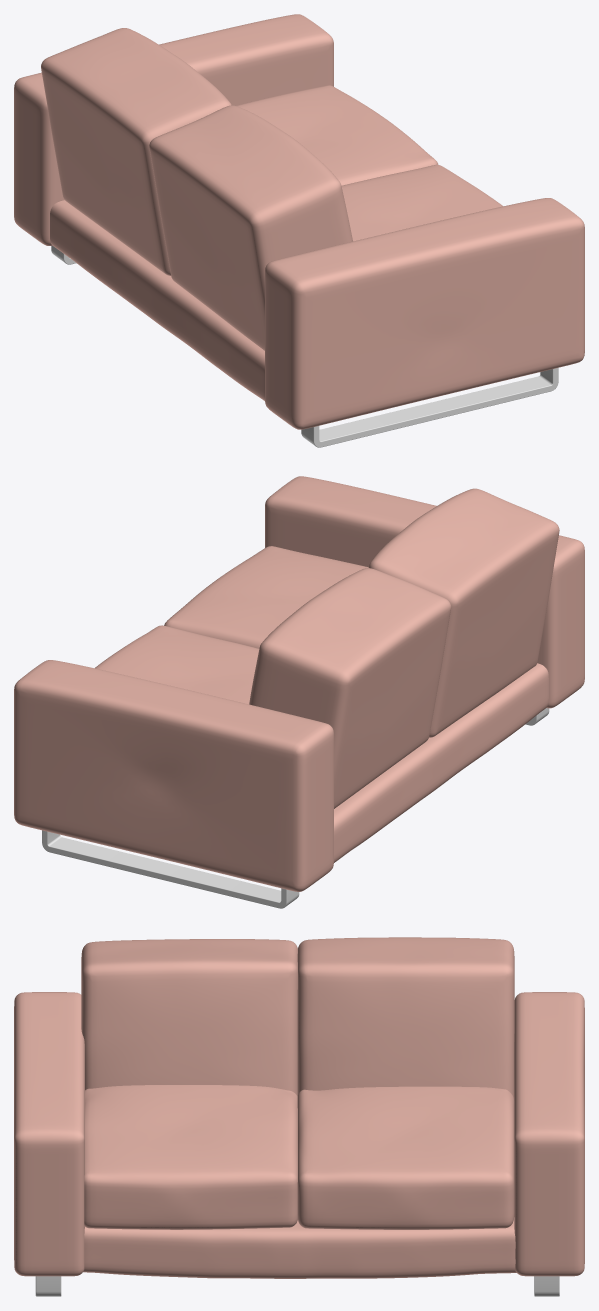
File: couch.fbx
3 renders of one model, top to bottom at view 1: azimuth 30°, elevation 25°; view 2: azimuth 150°, elevation 25°; view 3: azimuth 270°, elevation 25°, orthographic.
Parts seen in each view (by area): view 1: Cube.8_2; view 2: Cube.8_2; view 3: Cube.8_2.
Boxes of the visible parts, bbox=[...] form: Cube.8_2: bbox=[14, 14, 584, 447]; Cube.8_2: bbox=[14, 476, 584, 908]; Cube.8_2: bbox=[14, 937, 584, 1296].
Bounding box in the file's own units: 10278 × 7886 × 16805.
